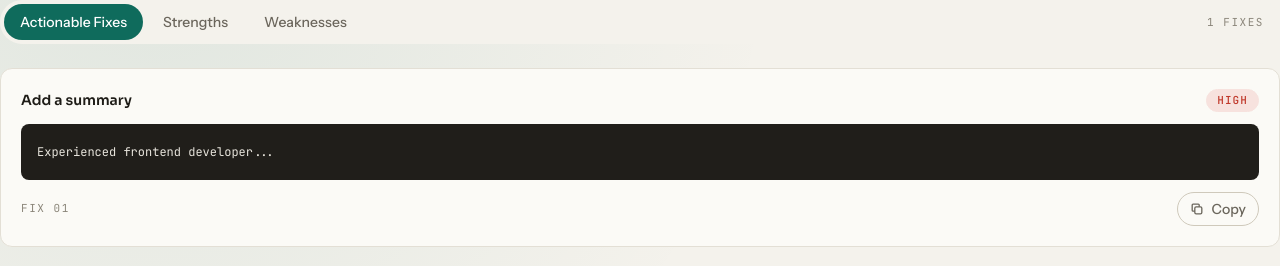
it: ReviewDashboard › switches to strengths tab
Step 1. Click the tab "Strengths" → [196, 22], box [147,4,244,40]
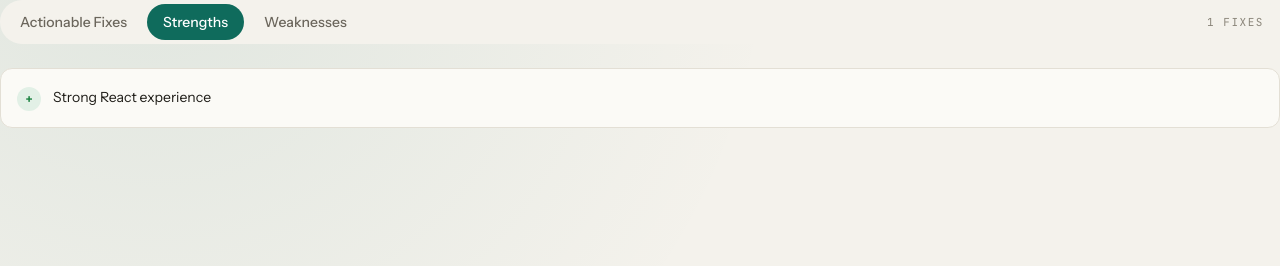
Expected: the list item "Strong React experience" is shown, [53,88,211,106]
